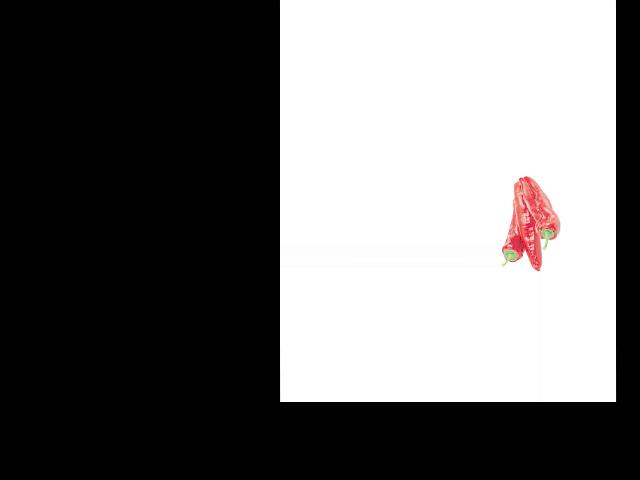bell_pepper: (527, 175, 562, 252)
